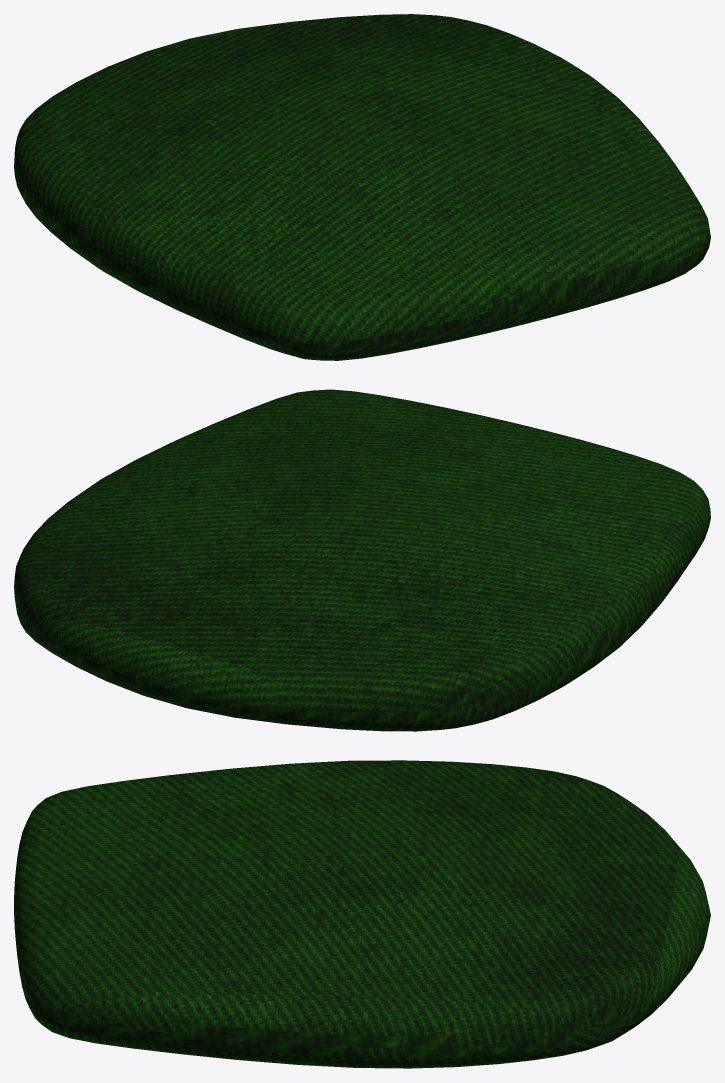
The model's file is Seat_cushion_2.fbx.
3 views of the same model, one above another, from view 1: azimuth 30°, elevation 25°; view 2: azimuth 150°, elevation 25°; view 3: azimuth 270°, elevation 25° (orthographic). The views are drawn at different scales.
Visible parts, largest first — view 1: Seat_cushion_2; view 2: Seat_cushion_2; view 3: Seat_cushion_2.
Boxes of the visible parts, x1,y1,x2,y2 form: Seat_cushion_2: (14, 14, 710, 360); Seat_cushion_2: (14, 389, 710, 731); Seat_cushion_2: (14, 760, 710, 1068).
Size of the model in its own units: 53.13 by 8.27 by 58.61.
